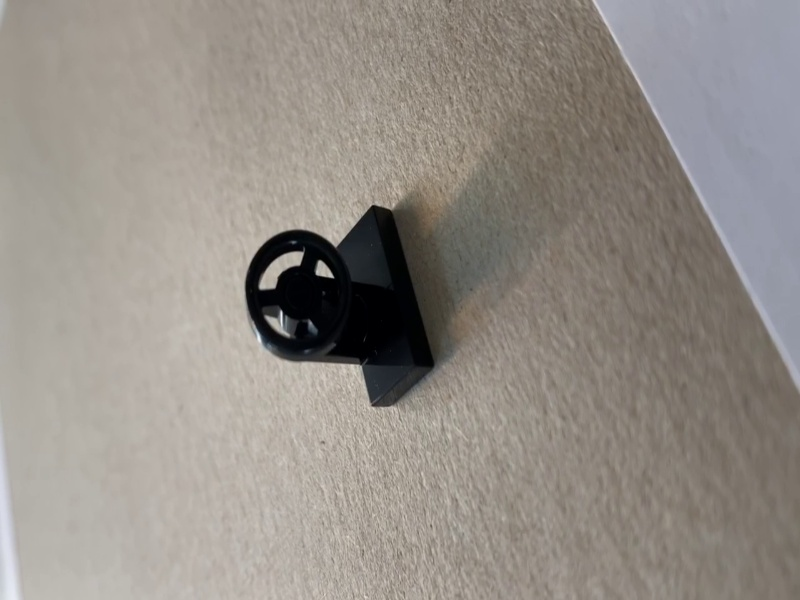steering wheel: (243, 200, 431, 409)
